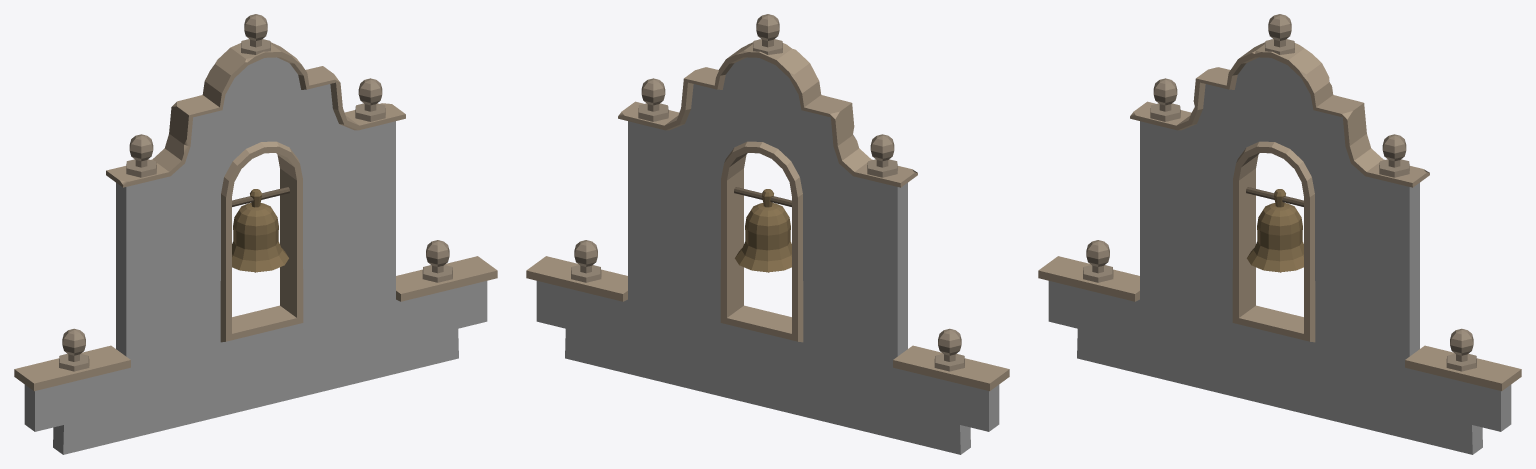
Rendered from SM_Bld_Wall_Bell_01.fbx.
3 views of the same model, side by side, from view 1: azimuth 30°, elevation 25°; view 2: azimuth 150°, elevation 25°; view 3: azimuth 330°, elevation 25° (orthographic).
Visible parts, largest first — view 1: SM_Bld_Wall_Bell_01; view 2: SM_Bld_Wall_Bell_01; view 3: SM_Bld_Wall_Bell_01.
Part boxes in pixels (left/top/right/bottom): SM_Bld_Wall_Bell_01: left=14, top=14, right=497, bottom=454; SM_Bld_Wall_Bell_01: left=526, top=14, right=1009, bottom=454; SM_Bld_Wall_Bell_01: left=1038, top=14, right=1521, bottom=454.
Size of the model in its own units: 587 by 469 by 72.88.
Materials: 3 (1 with a texture image).
